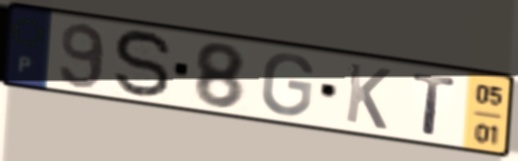8: (190, 40, 249, 111)
9: (56, 20, 108, 90)
G: (258, 51, 317, 119)
K: (342, 60, 394, 133)
S: (112, 28, 175, 101)
T: (410, 70, 459, 139)
